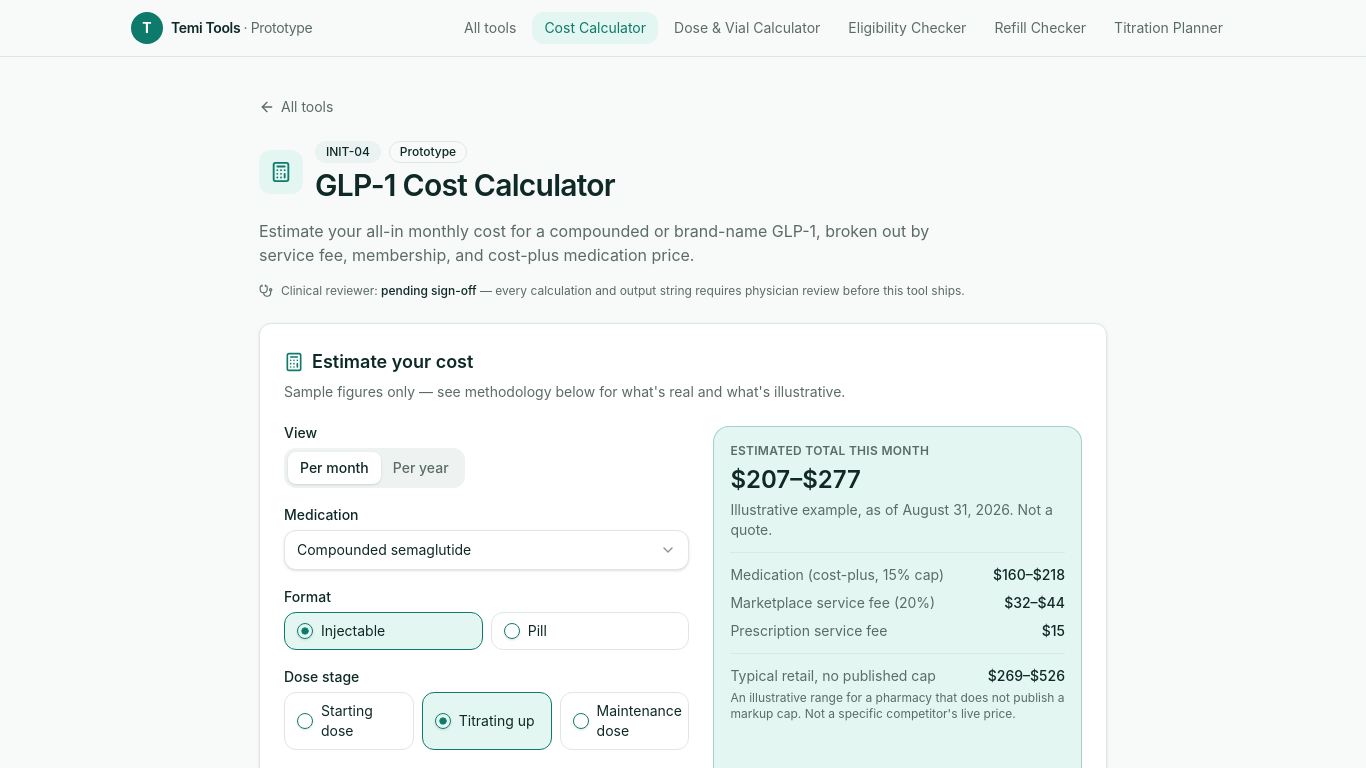
Test: GLP-1 Cost Calculator › shows a retail comparison for compounded medications but not for brand-name
Expected: the text "Typical retail, no published cap" is shown, [730,666,936,686]
Click the dropdown: x=384, y=550 [284,530,689,570]
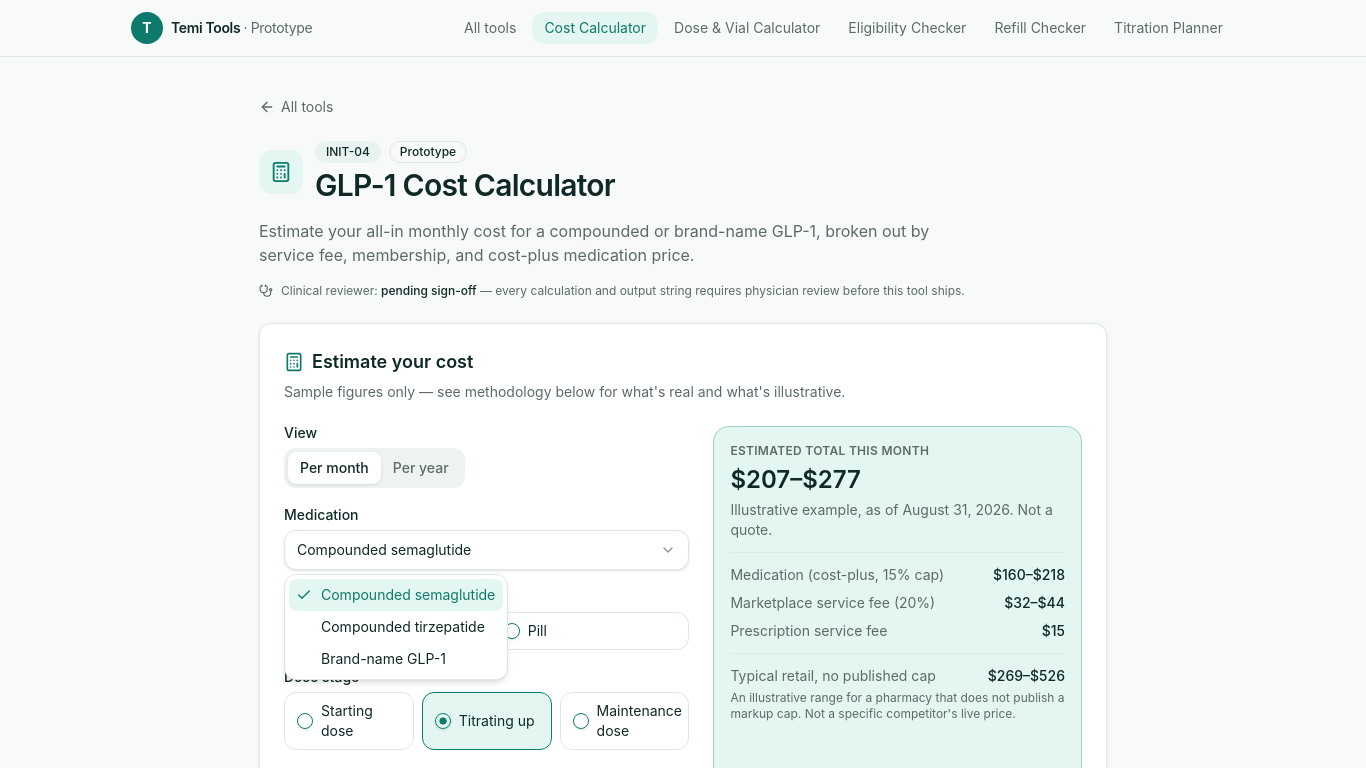
Click the option "Brand-name GLP-1": x=383, y=658 [321,650,446,667]
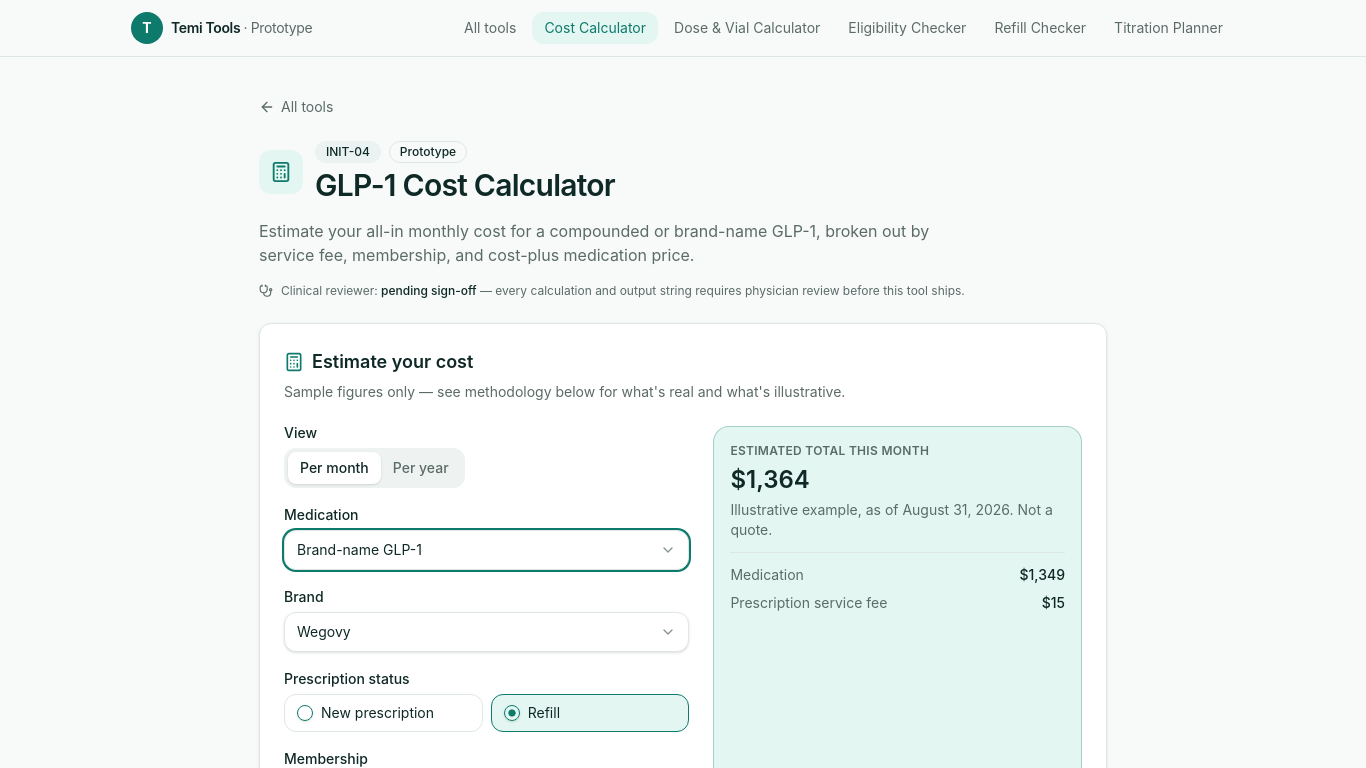
Expected: the text "Typical retail, no published cap" is gone
